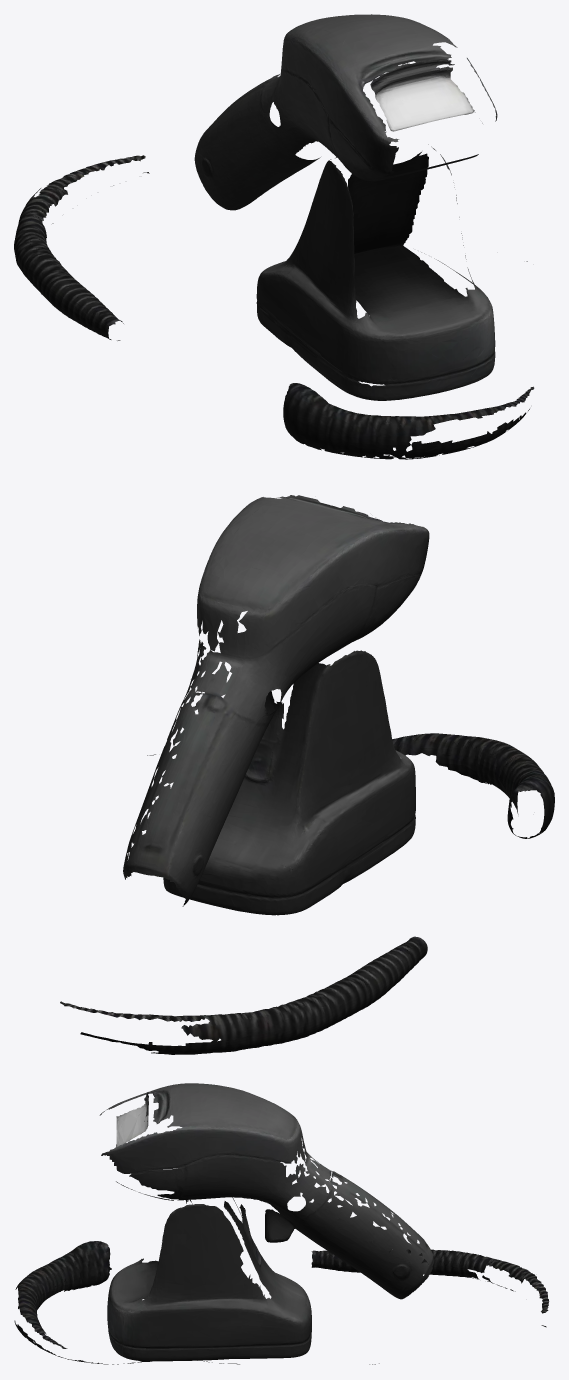
The picture shows the model from 3 angles, top to bottom: view 1: azimuth 30°, elevation 25°; view 2: azimuth 150°, elevation 25°; view 3: azimuth 270°, elevation 25°; orthographic projection. The views are drawn at different scales.
Visible parts, largest first — view 1: geometry_0; view 2: geometry_0; view 3: geometry_0.
Part boxes in pixels (left/top/right/bottom): geometry_0: left=14, top=14, right=534, bottom=459; geometry_0: left=60, top=495, right=554, bottom=1054; geometry_0: left=14, top=1083, right=549, bottom=1364.
Size of the model in its own units: 0.5815 by 0.4924 by 0.9999.
1 material, 1 textured.
